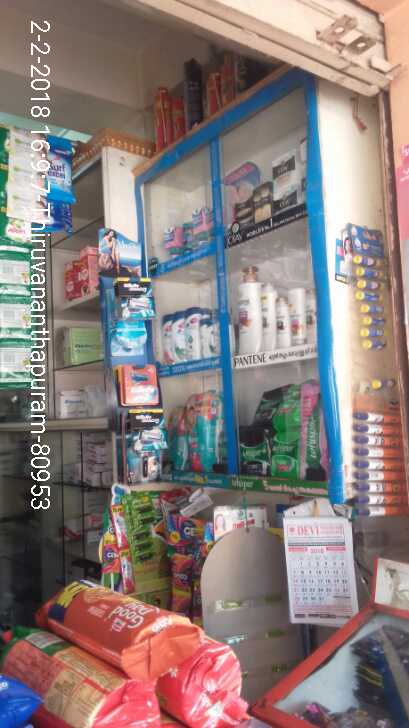vicks: (162, 204, 219, 268)
